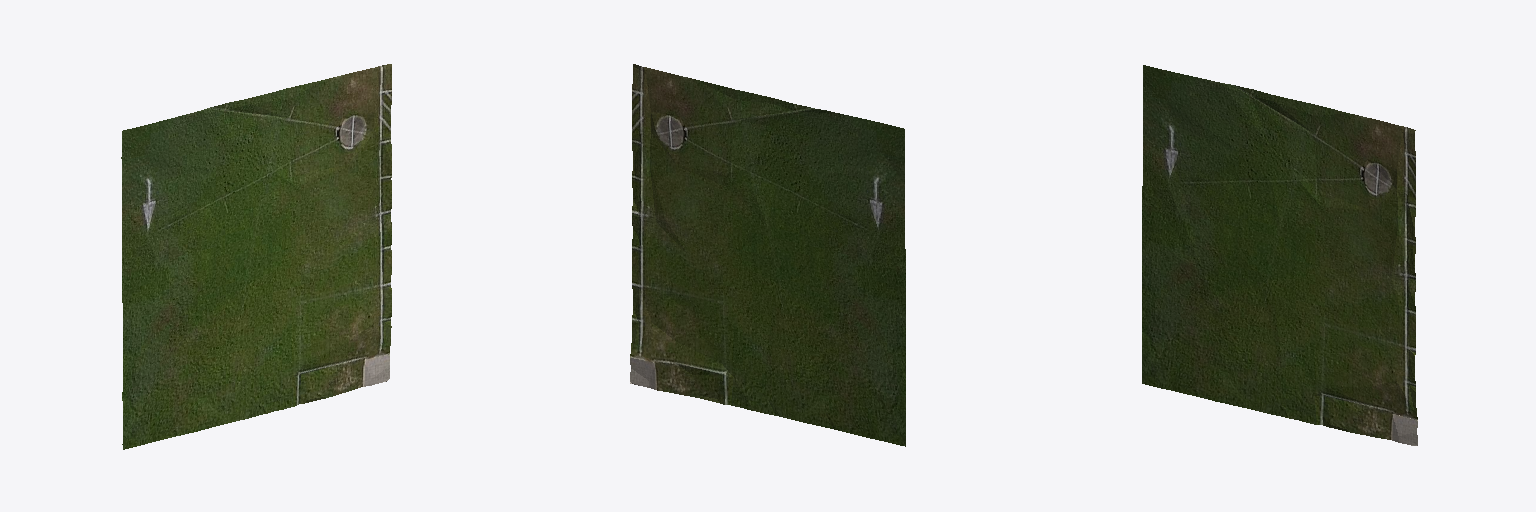
3 renders of one model, left to right at view 1: azimuth 30°, elevation 25°; view 2: azimuth 150°, elevation 25°; view 3: azimuth 330°, elevation 25°, orthographic.
Parts seen in each view (by area): view 1: obj_0; view 2: obj_0; view 3: obj_0.
Boxes of the visible parts, box(x1,y1,x2,y2) form: obj_0: box(121, 64, 391, 449); obj_0: box(630, 64, 905, 446); obj_0: box(1142, 65, 1417, 445).
Size of the model in its own units: 20.08 by 22.53 by 0.6745.
Materials: 1 (1 with a texture image).